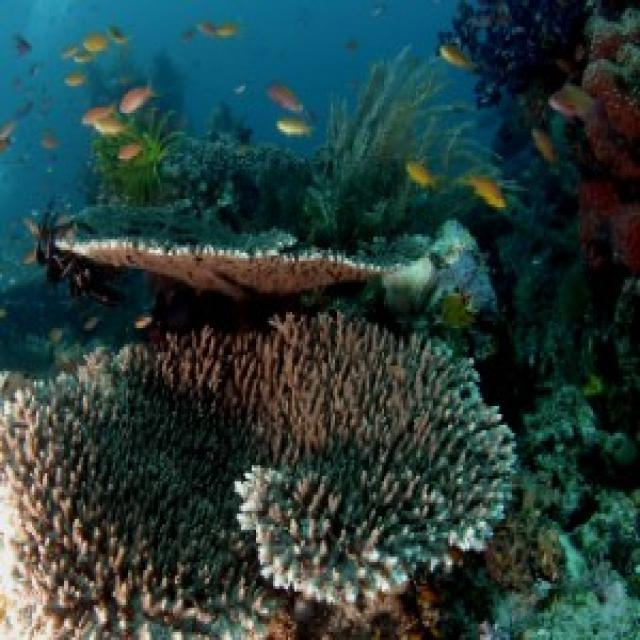Bleached: (526, 593, 639, 638)
Healthy: (1, 313, 519, 638), (549, 12, 639, 278), (59, 240, 389, 299), (483, 523, 534, 590), (536, 539, 558, 576)
